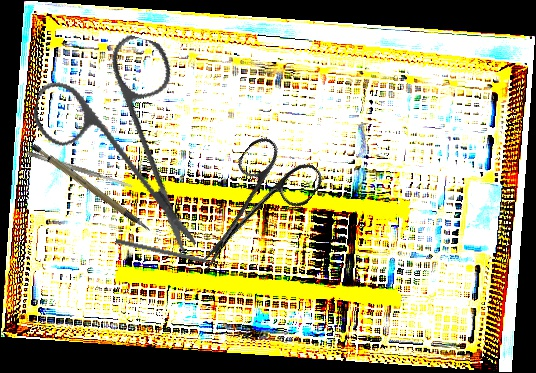Iris Scissors: (7, 15, 247, 255), (172, 127, 328, 294)
Pusher: (114, 238, 227, 270)
Scalpel Handle: (29, 129, 153, 250)
Spatula Surgical: (25, 149, 135, 191)
